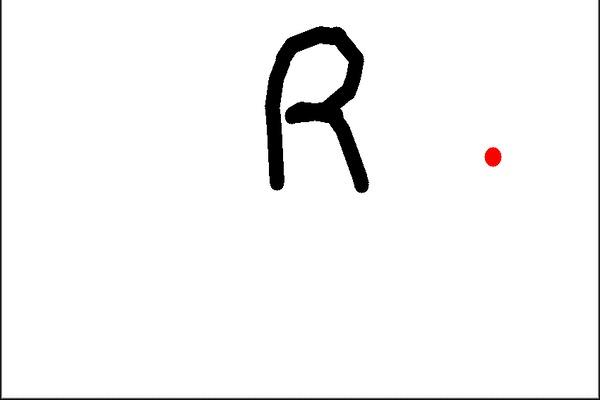R: (250, 18, 387, 201)
